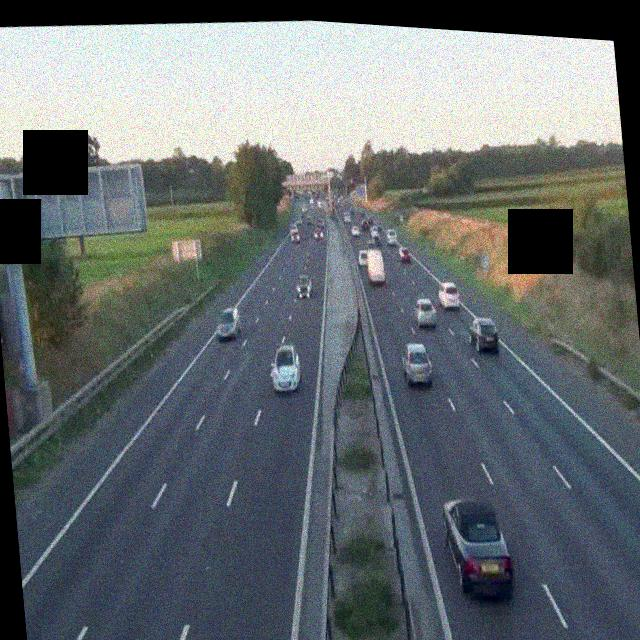car: (440, 492, 514, 602), (269, 342, 303, 392), (400, 339, 432, 386), (467, 314, 500, 353), (214, 305, 242, 341), (412, 294, 437, 328), (436, 278, 460, 310), (296, 272, 312, 300), (397, 244, 412, 264), (356, 247, 371, 267), (290, 227, 301, 243), (369, 231, 380, 247), (312, 226, 324, 240), (350, 223, 360, 237), (342, 210, 350, 224)
truck: (364, 244, 386, 284)
